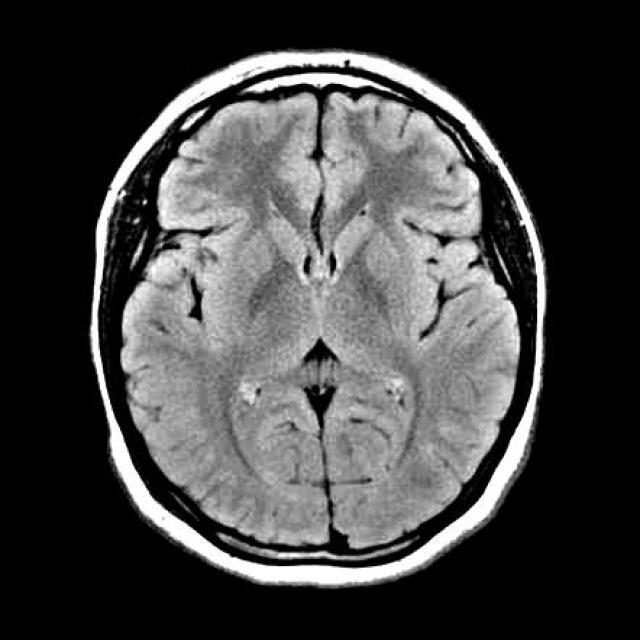notumor: (90, 52, 546, 586)
